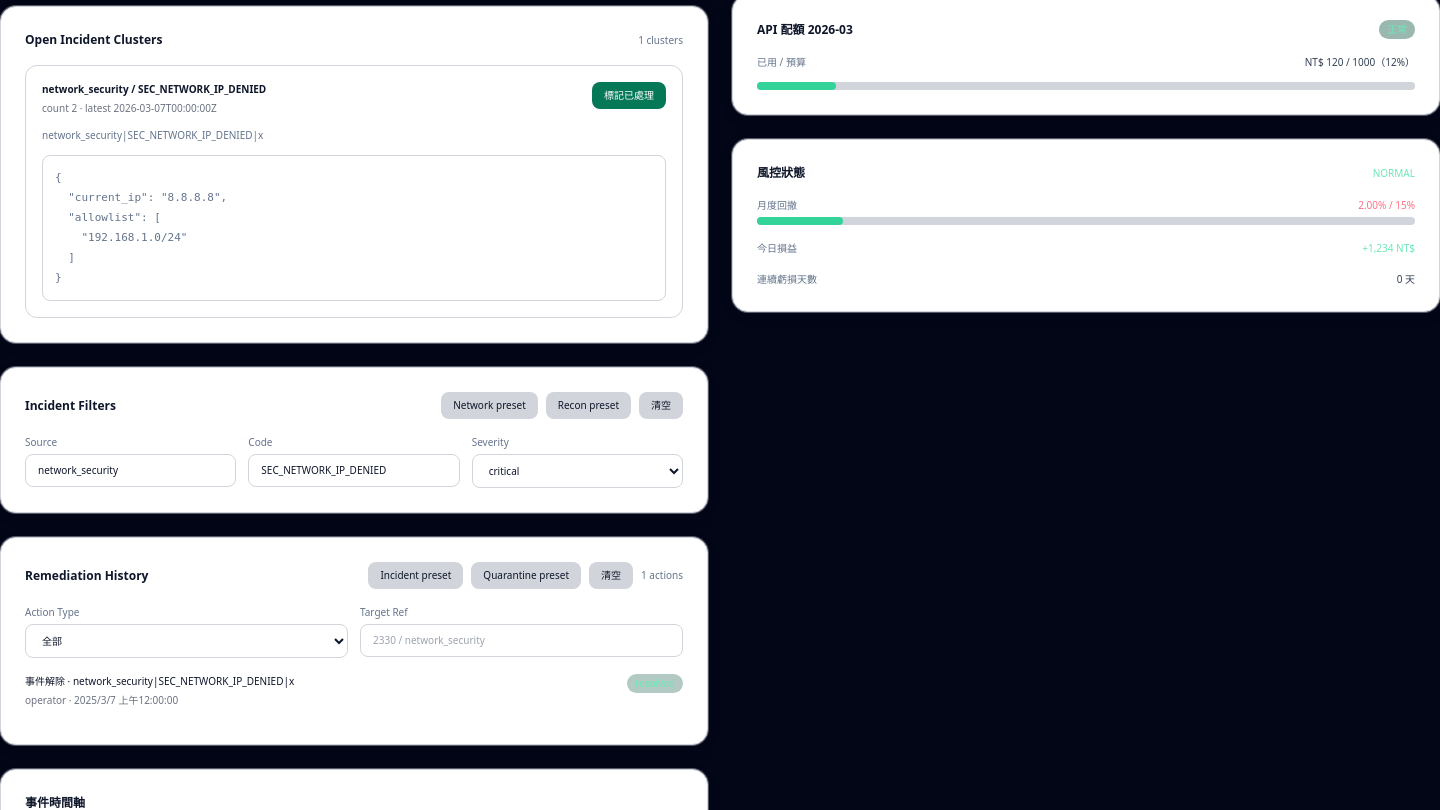
Test: SystemPage › resets incident filters
(page scrolled)
Step 1. Click the button "清空" in the row of "Incident Filters" → point(661, 406), box [639,392,683,419]
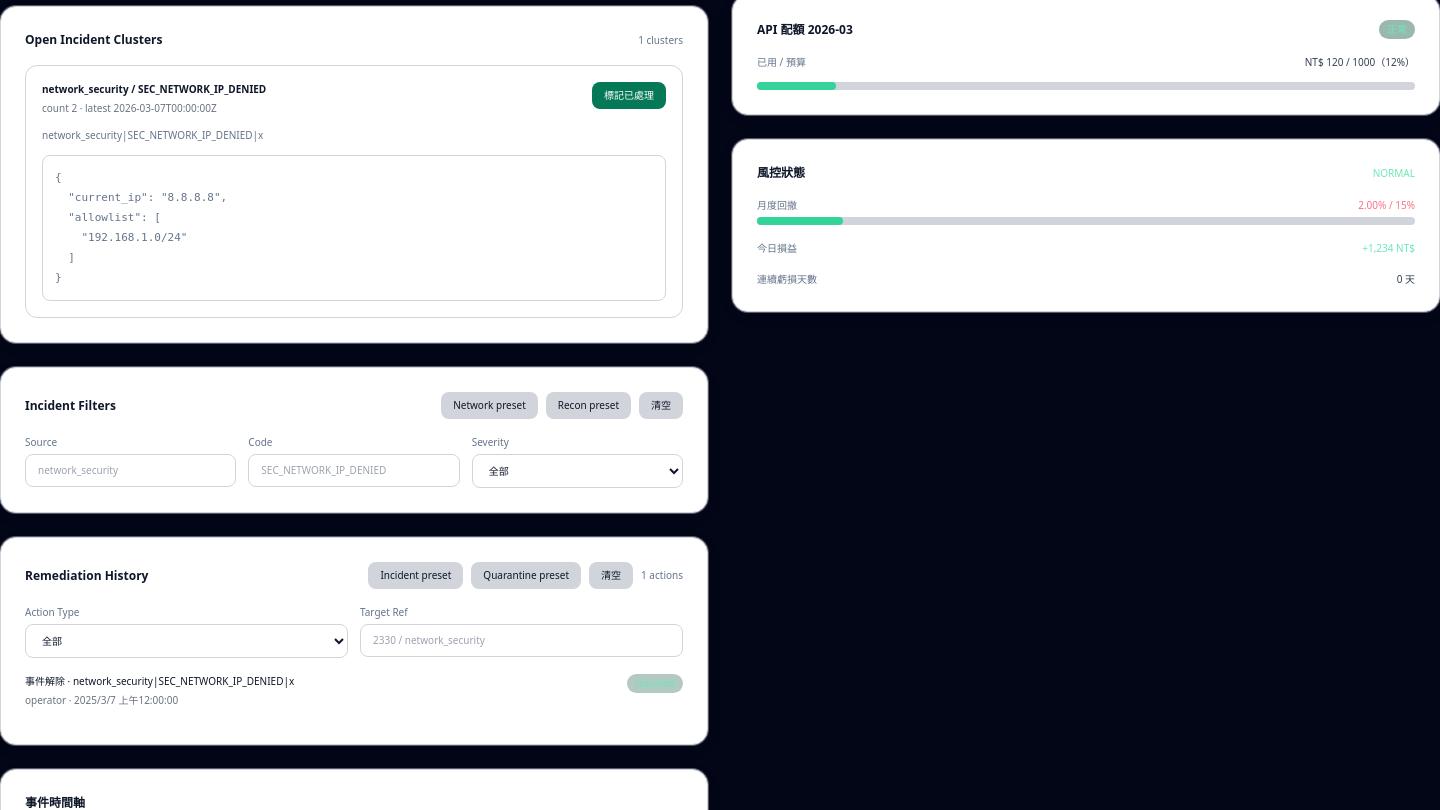
Now the field with placeholder "network_security" is empty, box [25,454,236,487]
Now the field with placeholder "SEC_NETWORK_IP_DENIED" is empty, box [248,454,460,487]
